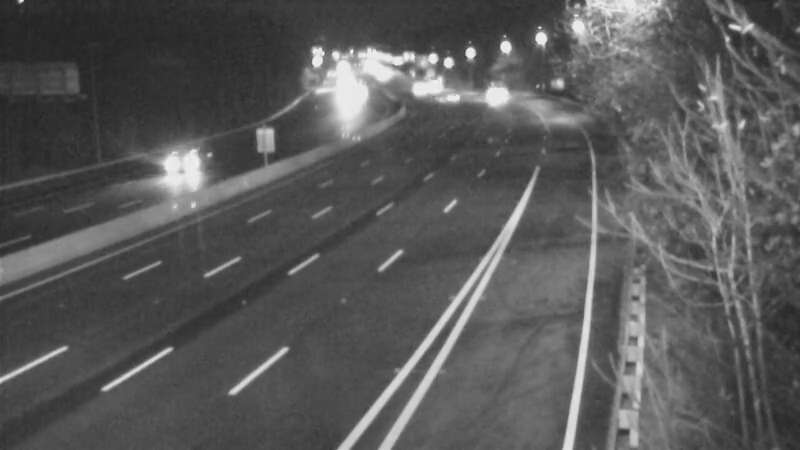vehicle: (142, 128, 222, 208), (394, 63, 444, 113), (425, 70, 475, 120), (469, 69, 519, 119)
